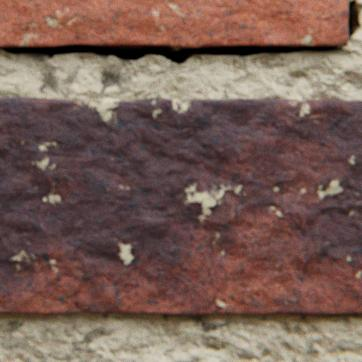brick: (0, 97, 361, 314), (0, 0, 346, 48)
crack: (1, 0, 360, 65)
